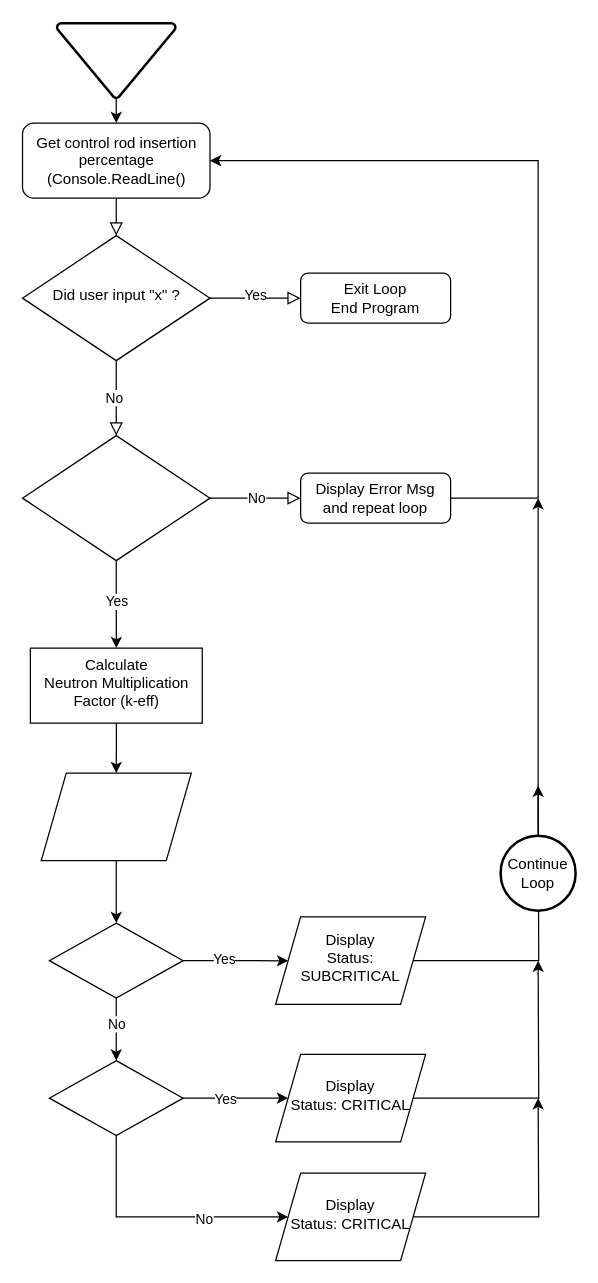
Image size: 598x1283. Some labels were removed from this diagram. The centre of each missing label's shape, as x and y in pixels:
Did user input an integer that is 0-100?: pixel 115 497
Display Rod Insertion % & Display k-eff: pixel 115 816
Is k_eff < 1?: pixel 115 960
Is k_eff = 1?: pixel 115 1097
Start: pixel 115 60
